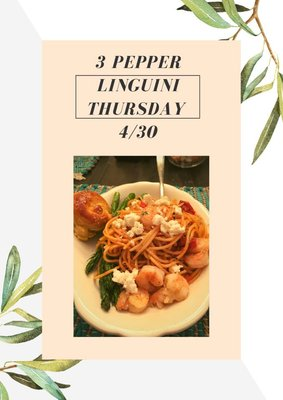curry: (74, 158, 211, 375)
